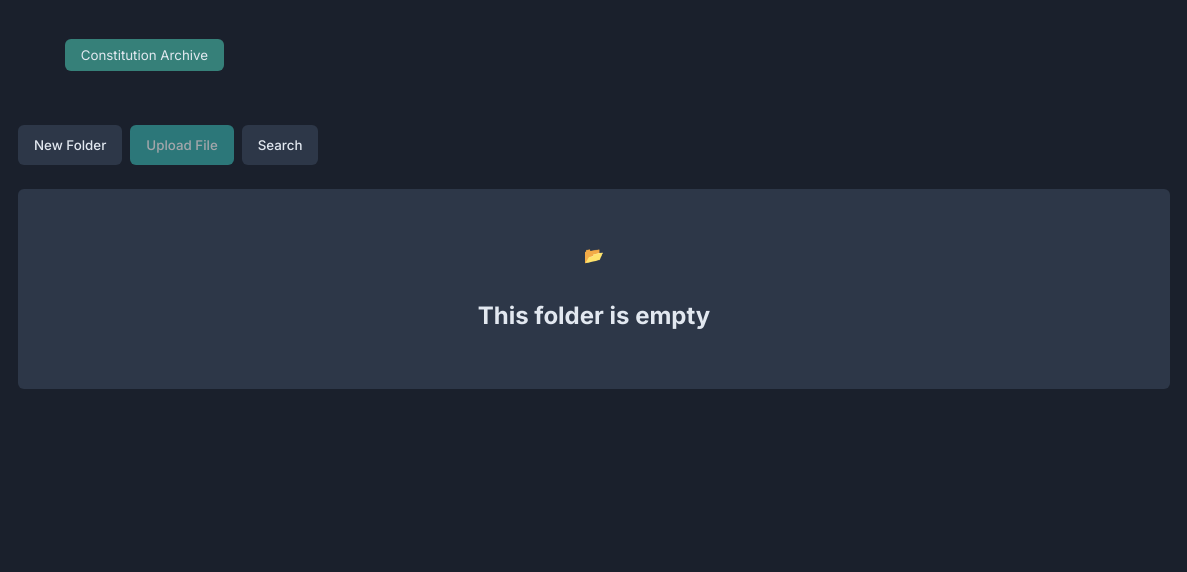
Test: FolderBrowser Component › handles unauthenticated user
Expected: the heading "This folder is empty" is shown, [478, 301, 710, 330]
Click the button "New Folder" at (70, 145), box [18, 125, 122, 165]
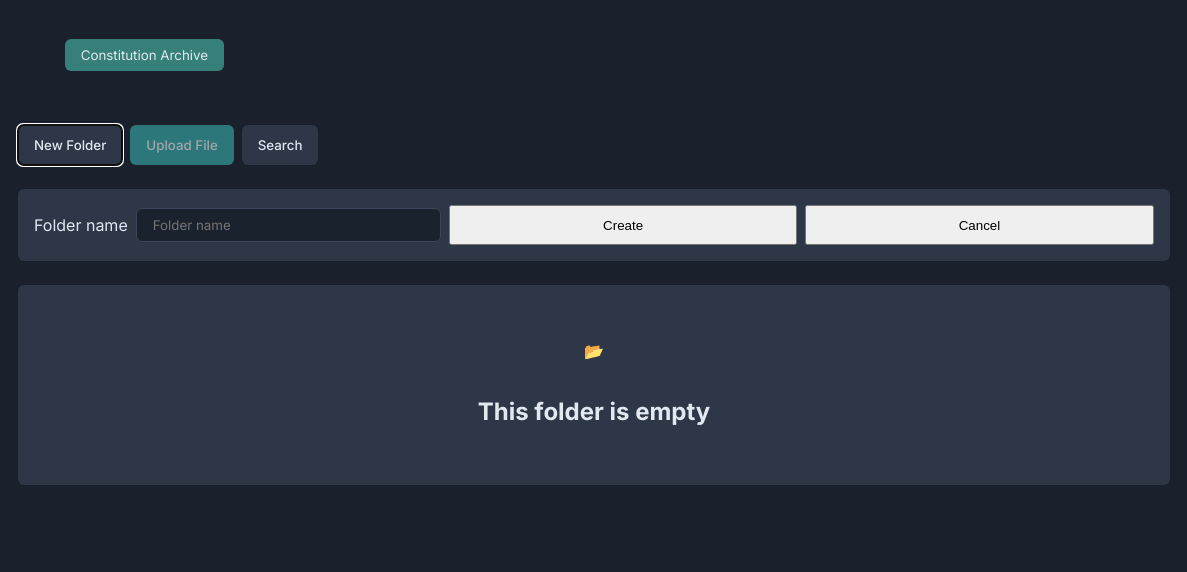
Type "New Folder" into the field with placeholder "Folder name" at (288, 225), box [136, 208, 441, 242]
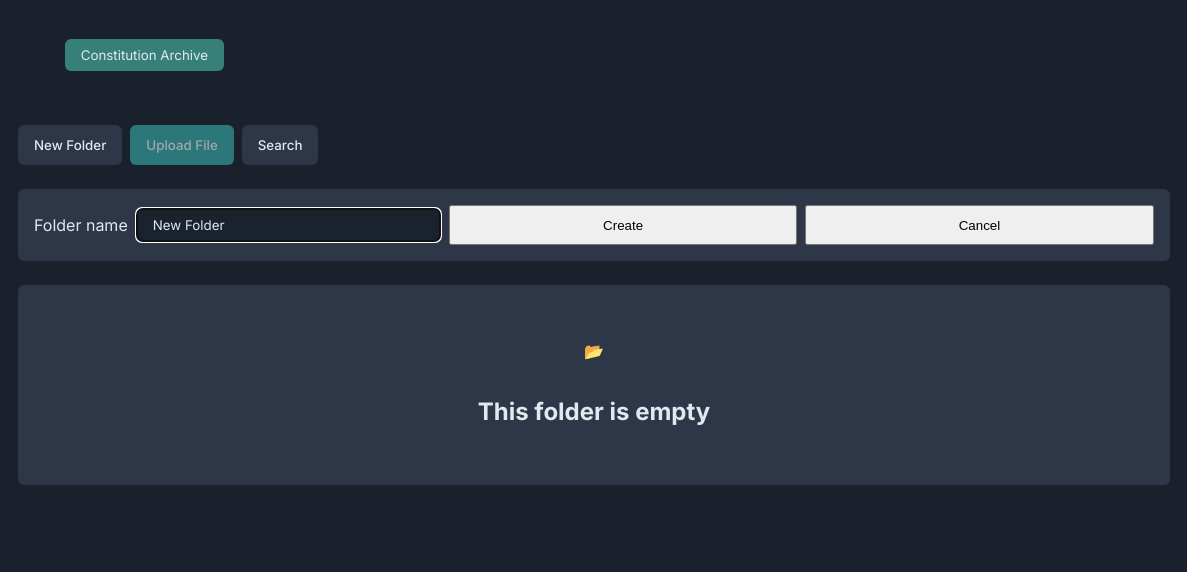
Click the button "Create" at (623, 225), box [449, 205, 797, 245]
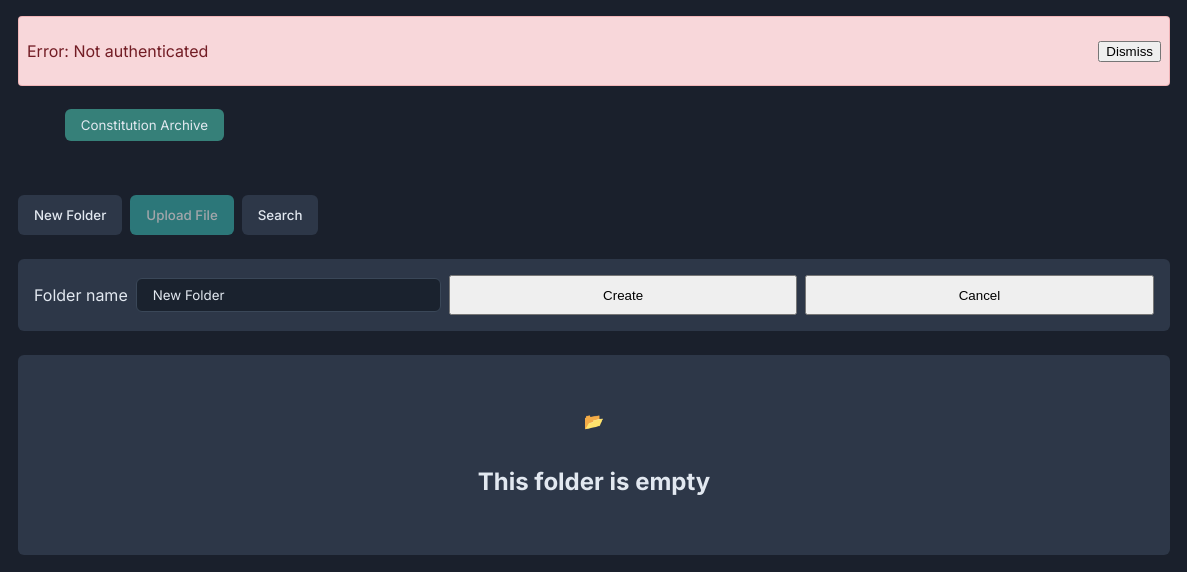
Now the text "Error: Not authenticated" is shown, box [27, 41, 208, 61]
